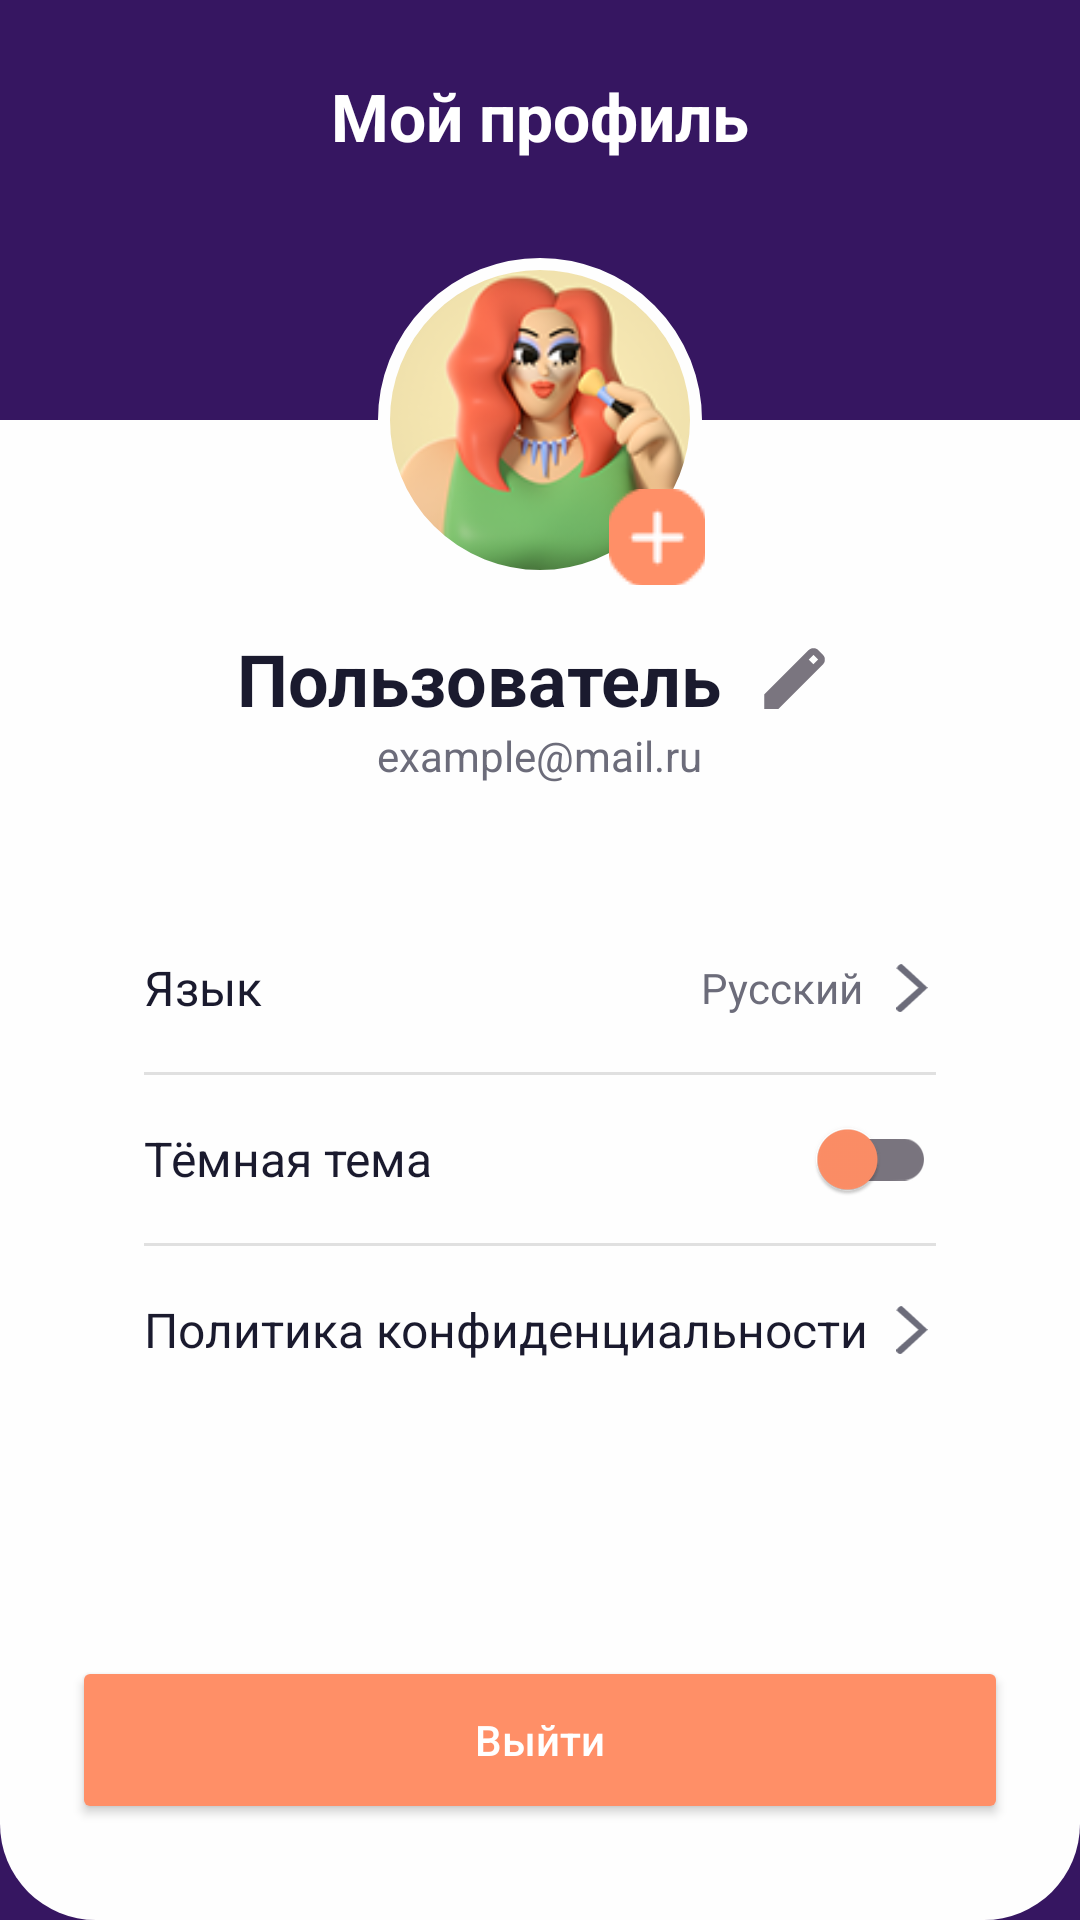

Locate icon controls on the screen. Image size 1080px x 1920px, boxes as (x1, y1, x2, y2).
chevron right: (896, 964, 928, 1012), (896, 1306, 928, 1354)
edit: (764, 648, 825, 709)
